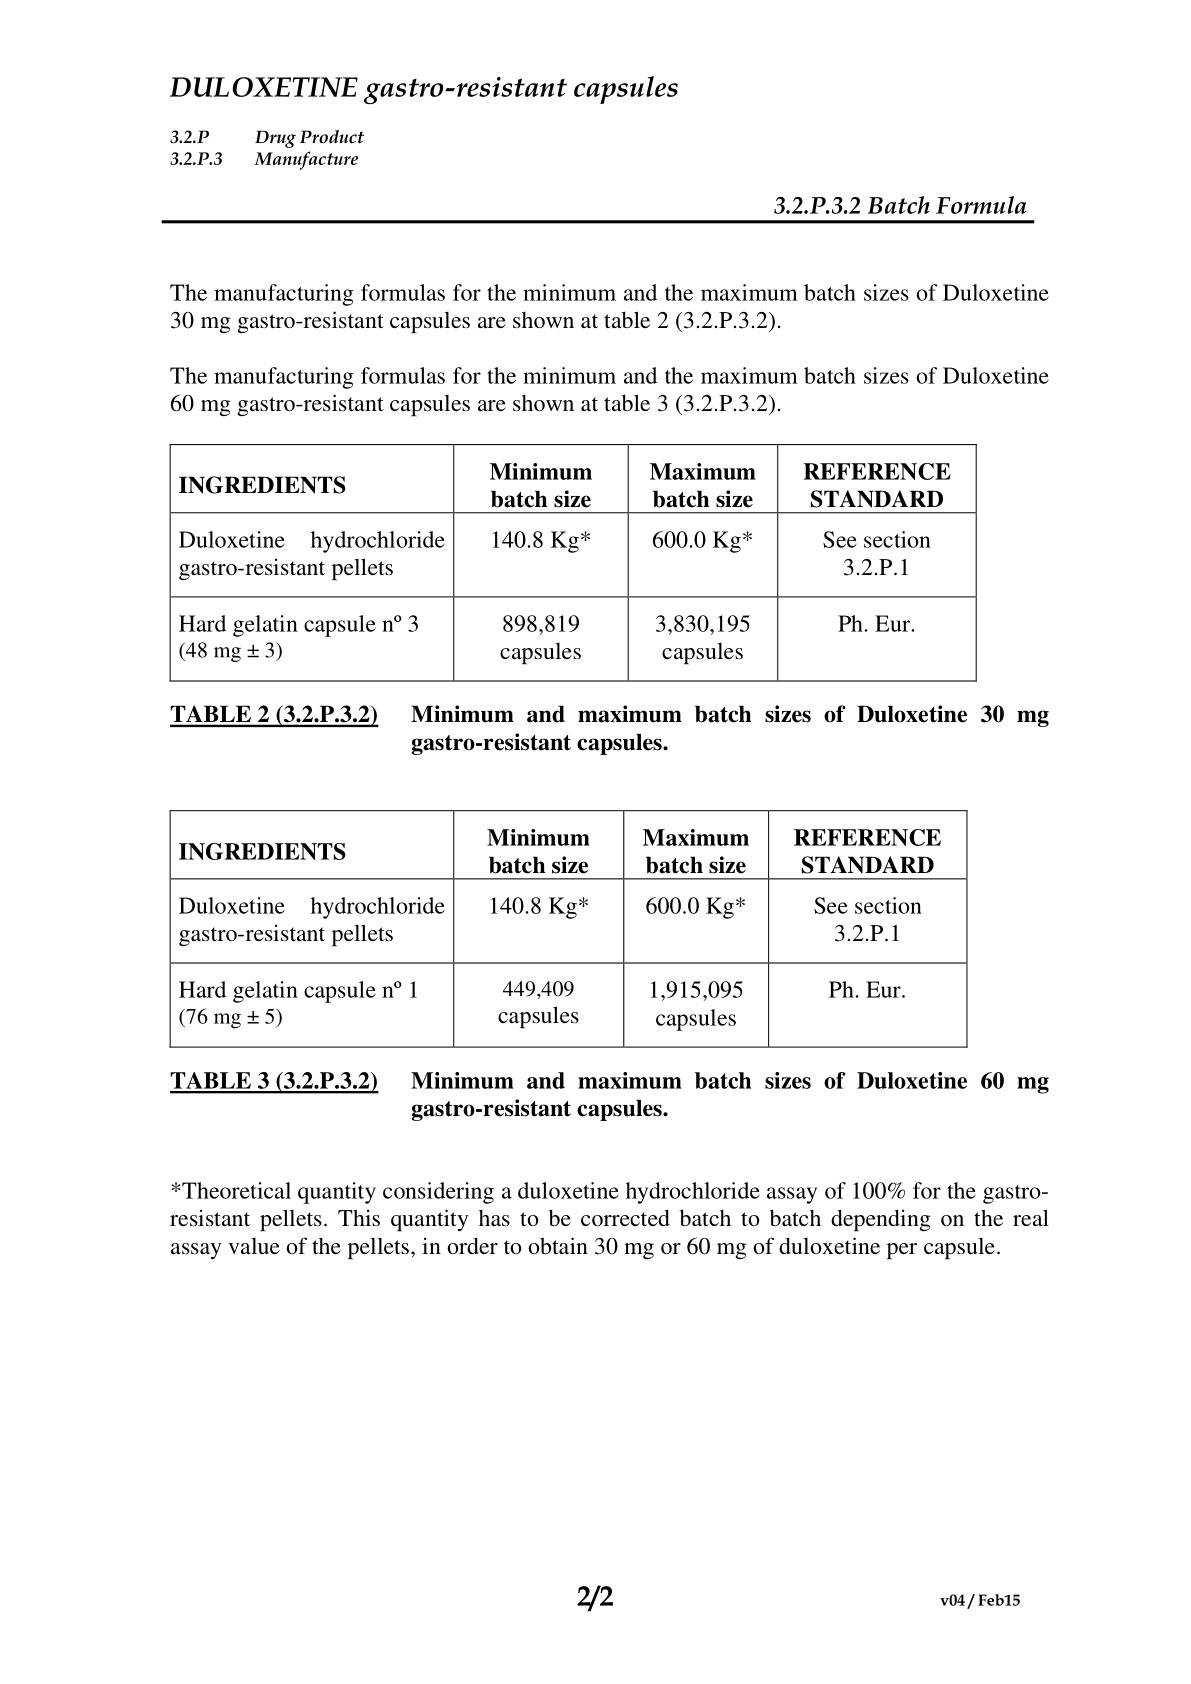full_lined: (168, 442, 978, 684), (168, 808, 969, 1050)
